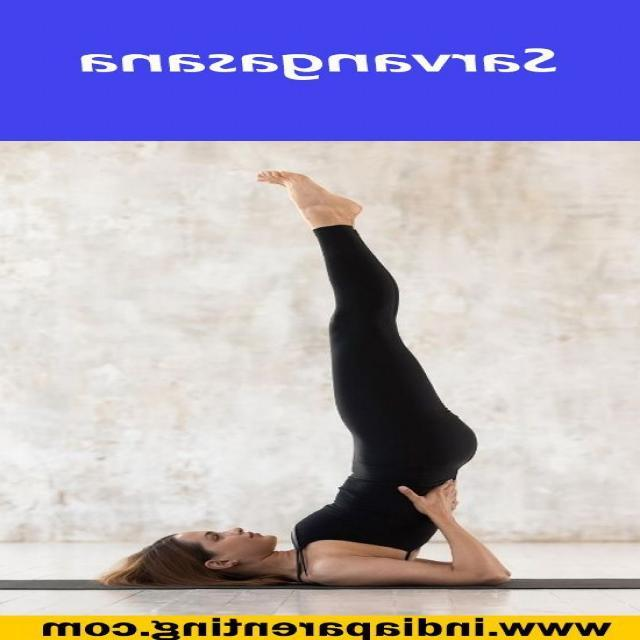yoga-pose shoulderstand: (111, 161, 541, 598)
